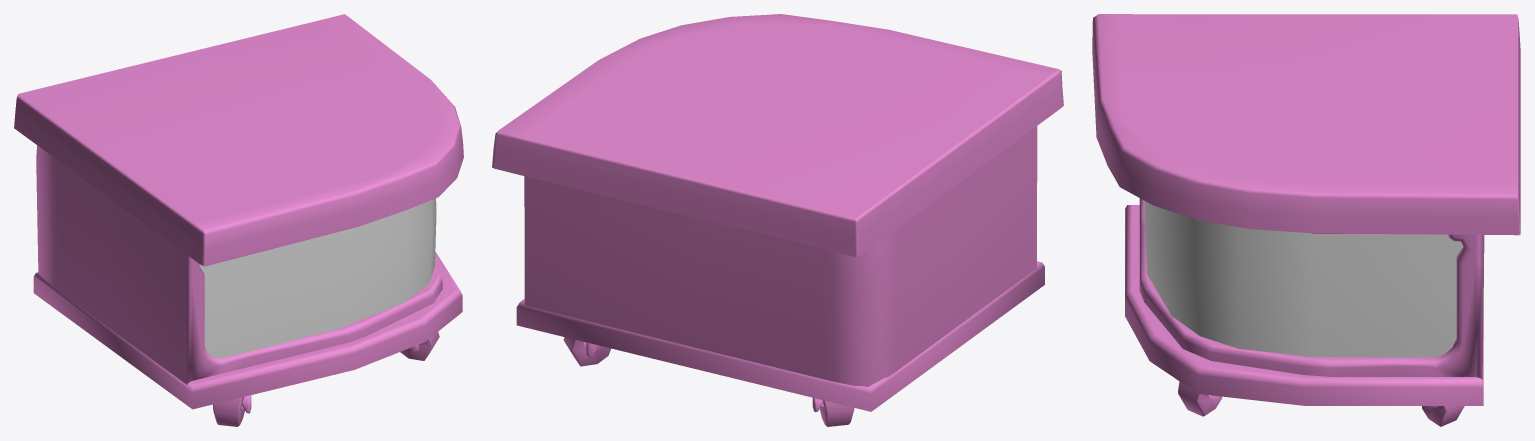
The model's file is ENV_HAU_SHOWCASECORNERBOTTOM_MODEL.fbx.
3 views of the same model, side by side, from view 1: azimuth 30°, elevation 25°; view 2: azimuth 150°, elevation 25°; view 3: azimuth 270°, elevation 25° (orthographic). The views are drawn at different scales.
Parts seen in each view (by area): view 1: ENV_HAU_SHOWCASECORNERBOTTOM_MODEL; view 2: ENV_HAU_SHOWCASECORNERBOTTOM_MODEL; view 3: ENV_HAU_SHOWCASECORNERBOTTOM_MODEL.
Boxes of the visible parts, bbox=[...] form: ENV_HAU_SHOWCASECORNERBOTTOM_MODEL: bbox=[14, 14, 463, 426]; ENV_HAU_SHOWCASECORNERBOTTOM_MODEL: bbox=[492, 14, 1063, 426]; ENV_HAU_SHOWCASECORNERBOTTOM_MODEL: bbox=[1092, 14, 1520, 426].
Bounding box in the file's own units: 102 × 65.43 × 100.
